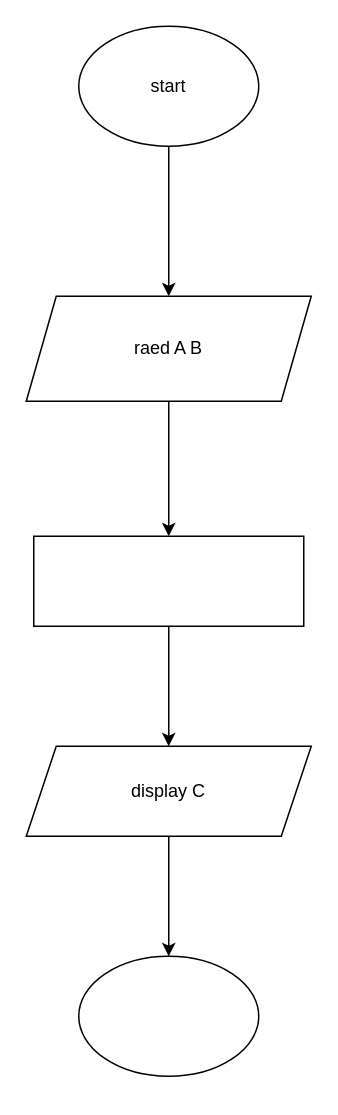
This 338x1115 diagram has some shape labels left out. The shapes that lost their labels are listed below. From the top down, each one's centre as x and y in pixels, then its label:
At (x=168, y=580): "c = A * B".
At (x=168, y=1015): "stop".
